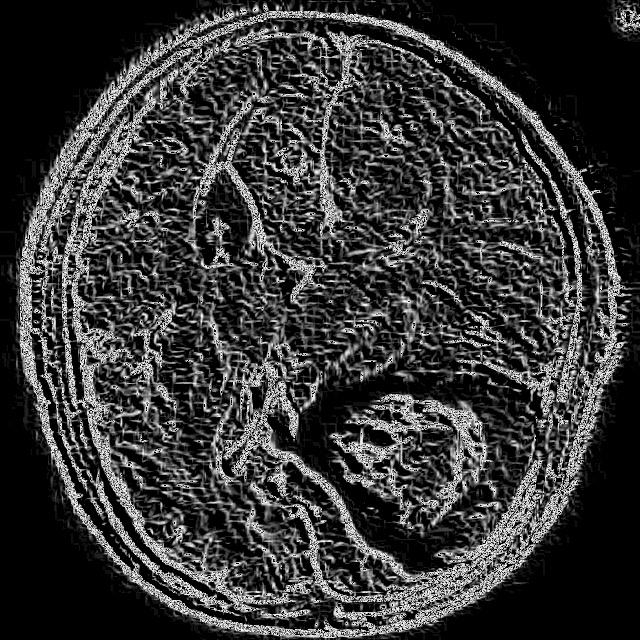Brain-Tumor: (258, 330, 552, 582)
